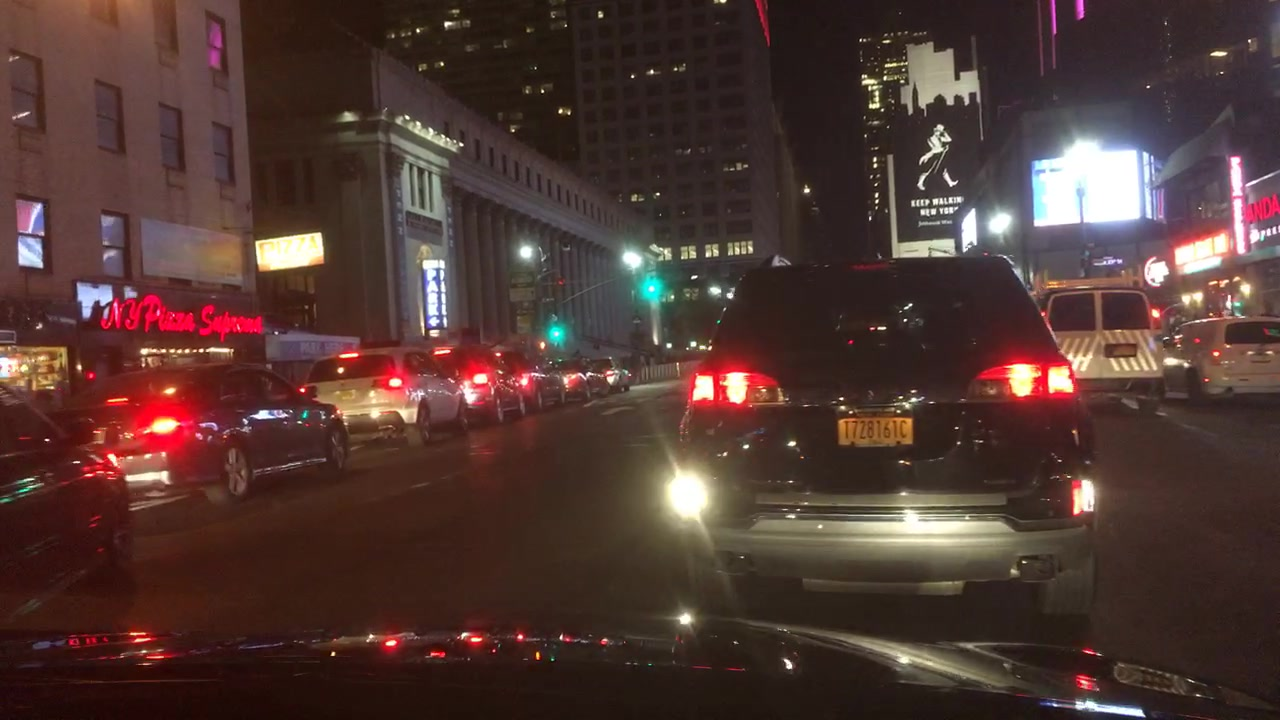licence: (832, 412, 917, 450)
